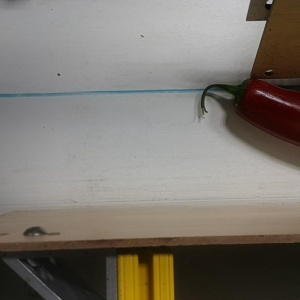Cut Point: (227, 76, 261, 116)
